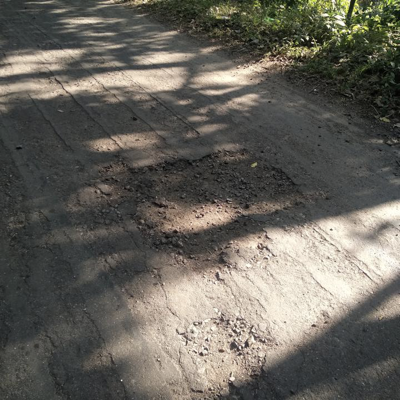pothole: (102, 150, 308, 280), (180, 317, 272, 400)
